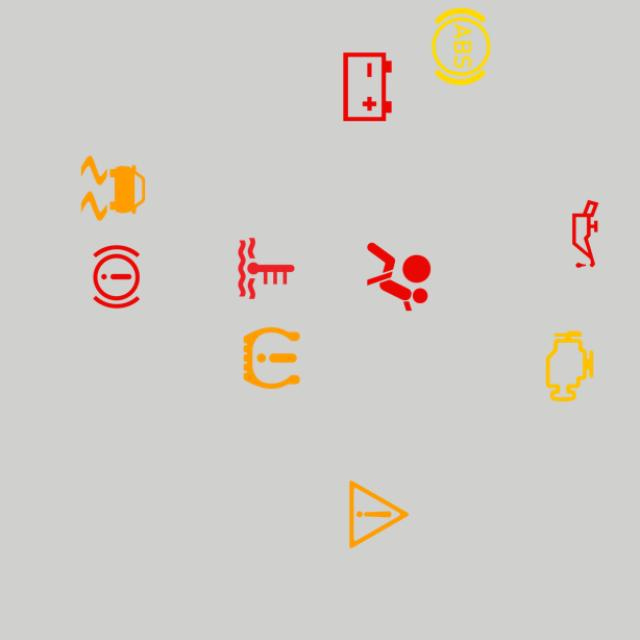Anti Lock Braking System: (419, 5, 503, 89)
Braking System Issue: (74, 234, 158, 318)
Charging System Issue: (326, 45, 410, 129)
Check Engine: (528, 324, 612, 408)
Electronic Stability Problem -ESP-: (71, 146, 155, 230)
Engine Overheating Warning Light: (224, 227, 308, 310)
Low Engine Oil Warning Light: (544, 192, 628, 276)
Low Tire Pressure Warning Light: (230, 316, 314, 400)
Master warning light: (337, 472, 421, 556)
SRS-Airbag: (356, 234, 441, 318)
